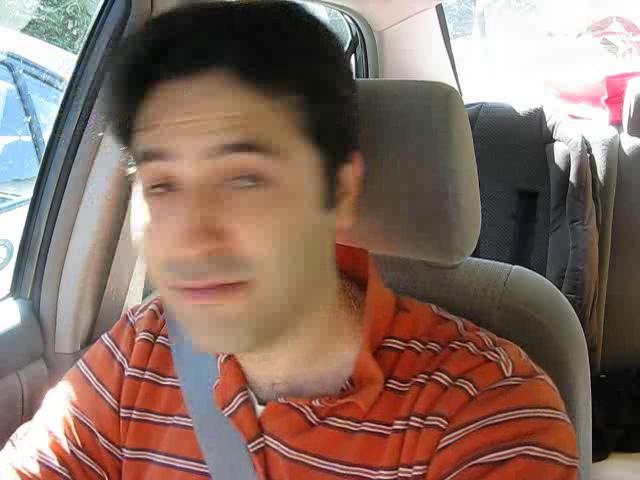close_eyeL: (134, 168, 194, 209)
close_eyeR: (211, 157, 285, 205)
no_yawn: (144, 255, 270, 325)
